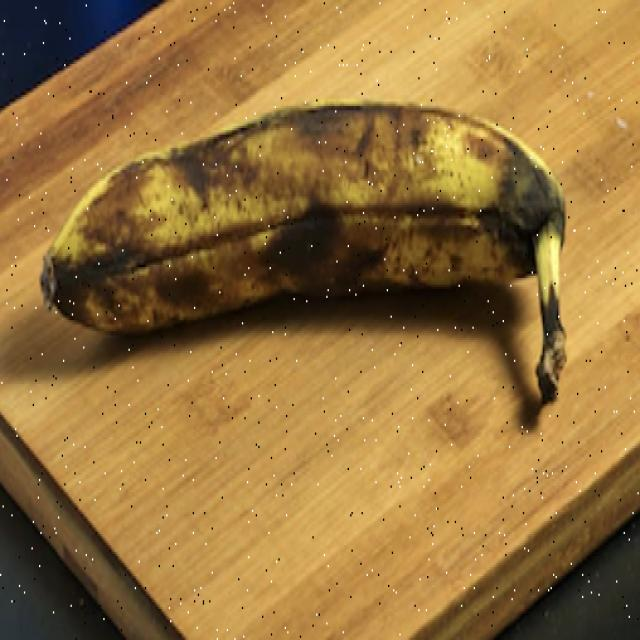banana: (120, 71, 577, 575)
